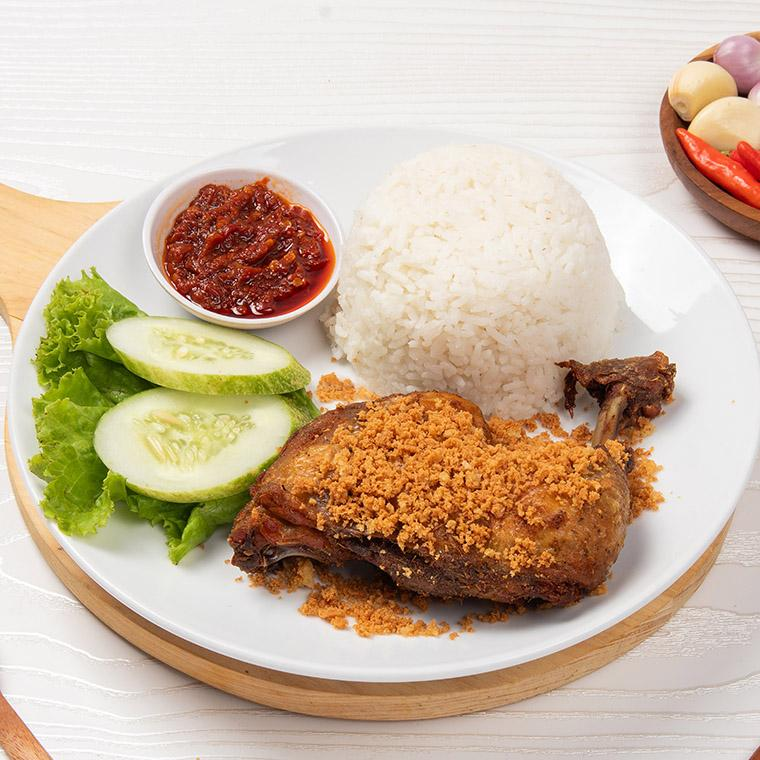buah_sayur_lainnya: (70, 337, 244, 507)
buah_sayur_vitA: (190, 201, 297, 293)
daging: (332, 417, 611, 566)
makanan_berpati: (388, 177, 551, 352)
